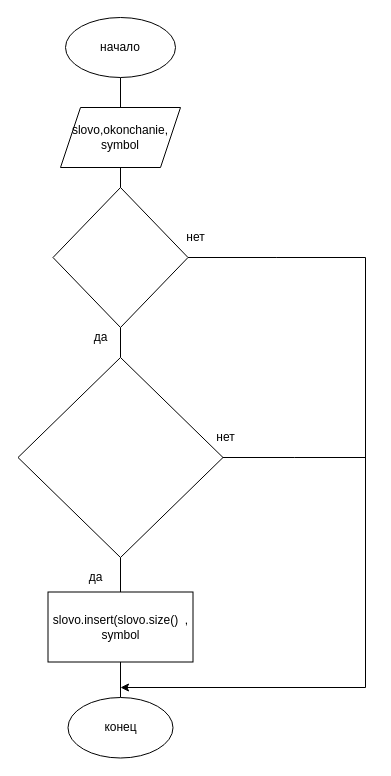
This 391x776 diagram has some shape labels left out. Here are the shapes that lost their labels. From the top down, the centre of each, then its label:
At pixel 120 257: "slovo.size() >= okonchanie.size()".
At pixel 120 457: "slovo.substr(slovo.size() - okonchanie.size()) == okonchanie".
